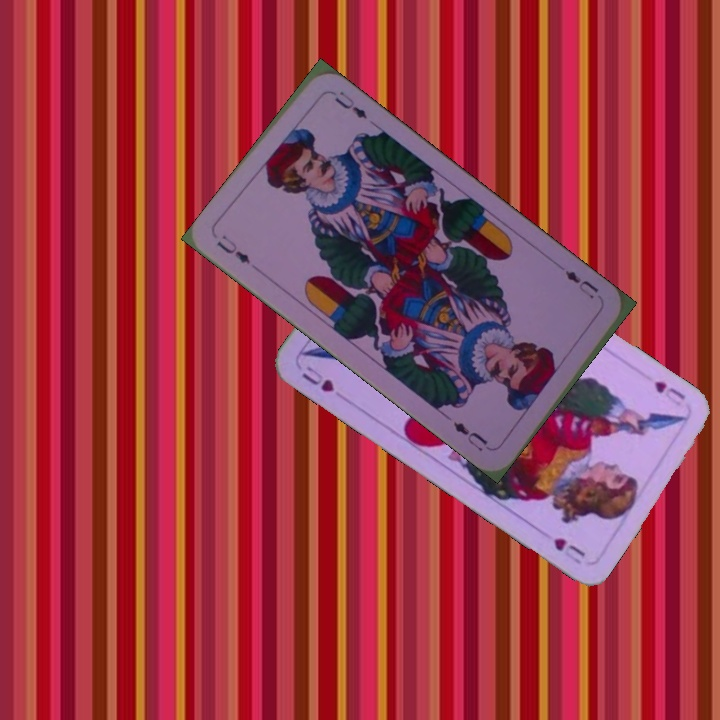EU: (561, 266, 602, 302), (212, 231, 253, 267)
HU: (297, 361, 337, 395), (650, 376, 688, 409)
